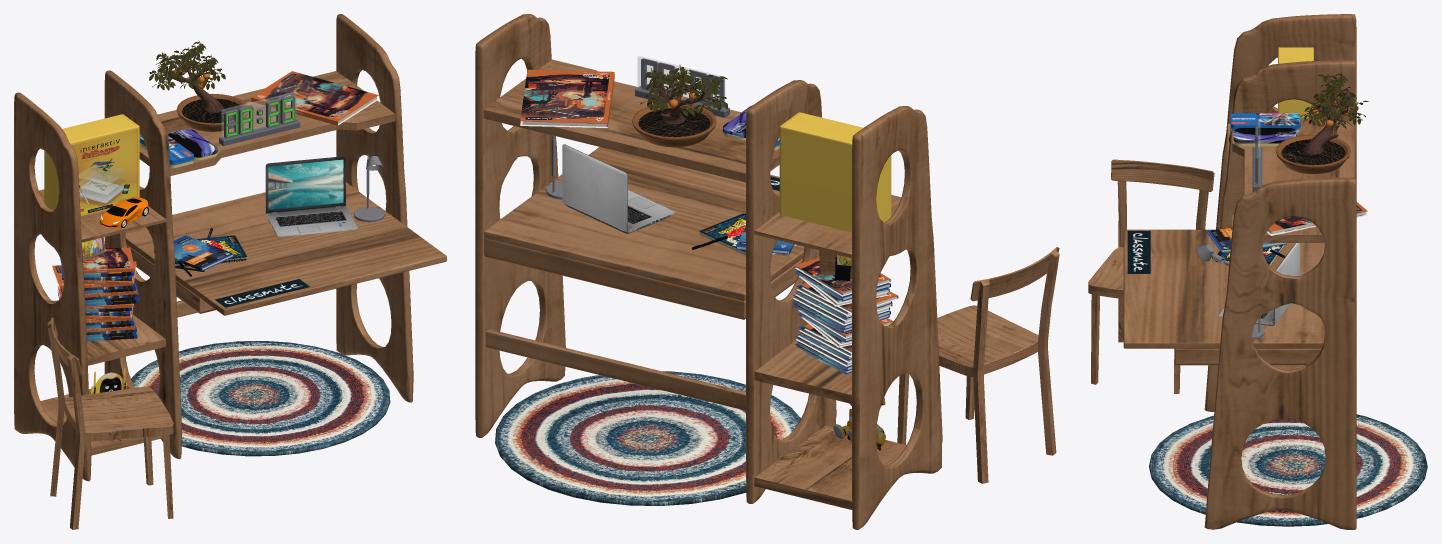
Rendered from TABLE5.glb.
3 views of the same model, side by side, from view 1: azimuth 30°, elevation 25°; view 2: azimuth 150°, elevation 25°; view 3: azimuth 270°, elevation 25° (orthographic). The views are drawn at different scales.
Visible parts, largest first — view 1: polySurface9.009, Object_59, Object_61, pCube14, Material19-material-material, notebook.019, notebook.040, Plane_Material.002_0, Pot_74, pCube16, notebook.041, Object_187 (+5 smaller); view 2: polySurface9.009, Object_59, Object_61, pCube14, notebook.019, Material19-material-material, notebook.040, Pot_74, Plane_Material.002_0, polySurface7, Object_224; view 3: polySurface9.009, Object_59, Object_61, pCube16, Pot_74, pCube14, Classmate_stationary_logo.svg, Material19-material-material, Arbol_0, notebook.040, Plane_Material.002_0, notebook.041 (+1 smaller).
Boxes of the visible parts, x1,y1,x2,y2 form: polySurface9.009: (14, 14, 446, 481); Object_59: (131, 341, 390, 456); Object_61: (47, 317, 173, 529); pCube14: (44, 114, 139, 215); Material19-material-material: (265, 156, 357, 236); notebook.019: (52, 247, 139, 341); notebook.040: (251, 71, 378, 125); Plane_Material.002_0: (219, 92, 300, 145); Pot_74: (176, 93, 248, 131); pCube16: (139, 129, 217, 168); notebook.041: (154, 235, 233, 270); Object_187: (99, 196, 148, 228); polySurface9.009: (475, 14, 942, 529); Object_59: (495, 371, 800, 505); Object_61: (897, 247, 1059, 483); pCube14: (779, 112, 891, 232); notebook.019: (792, 257, 898, 374); Material19-material-material: (562, 144, 674, 233); notebook.040: (520, 69, 614, 127); Pot_74: (632, 103, 716, 147); Plane_Material.002_0: (635, 56, 729, 117); polySurface7: (699, 213, 797, 255); Object_224: (819, 250, 851, 281); polySurface9.009: (1123, 14, 1356, 529); Object_59: (1149, 414, 1427, 526); Object_61: (1088, 159, 1214, 393); pCube16: (1230, 113, 1300, 146); Pot_74: (1276, 134, 1350, 174); pCube14: (1278, 47, 1313, 117); Classmate_stationary_logo.svg: (1127, 231, 1150, 273); Material19-material-material: (1219, 243, 1300, 325); Arbol_0: (1302, 86, 1348, 155); notebook.040: (1236, 202, 1367, 235); Plane_Material.002_0: (1252, 119, 1262, 191); notebook.041: (1207, 227, 1286, 252).
Bounding box in the file's own units: 1.83 × 1.6 × 1.34.
Materials: 39 (20 with a texture image).
